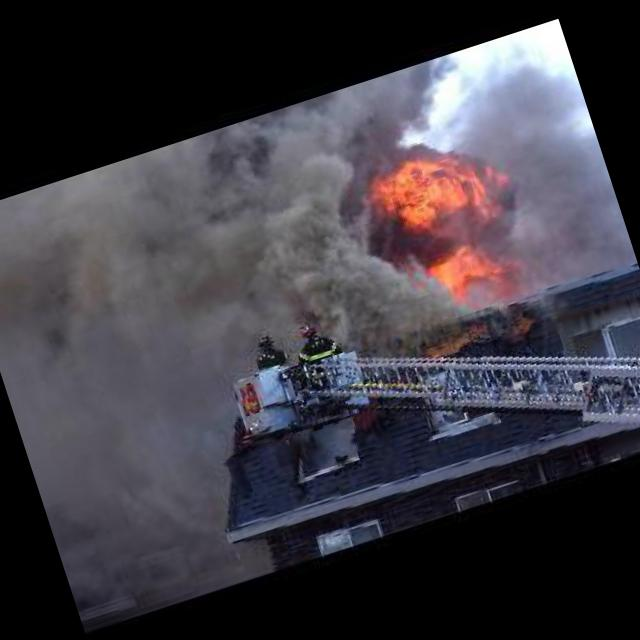fire: (358, 124, 534, 322)
smoke: (230, 122, 418, 340)
